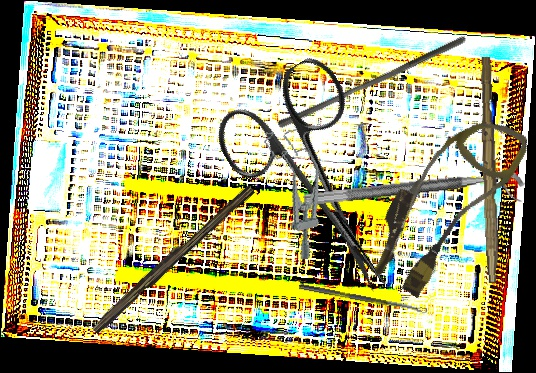Cannula: (357, 95, 533, 310)
Fixation Ring: (302, 169, 528, 225)
Iris Scissors: (203, 50, 441, 322)
Pusher: (275, 27, 469, 136)
Scalpel Handle: (88, 179, 256, 338), (476, 56, 504, 284)
Speculum: (262, 122, 338, 263)
Surgical Spoon: (298, 283, 428, 315)
